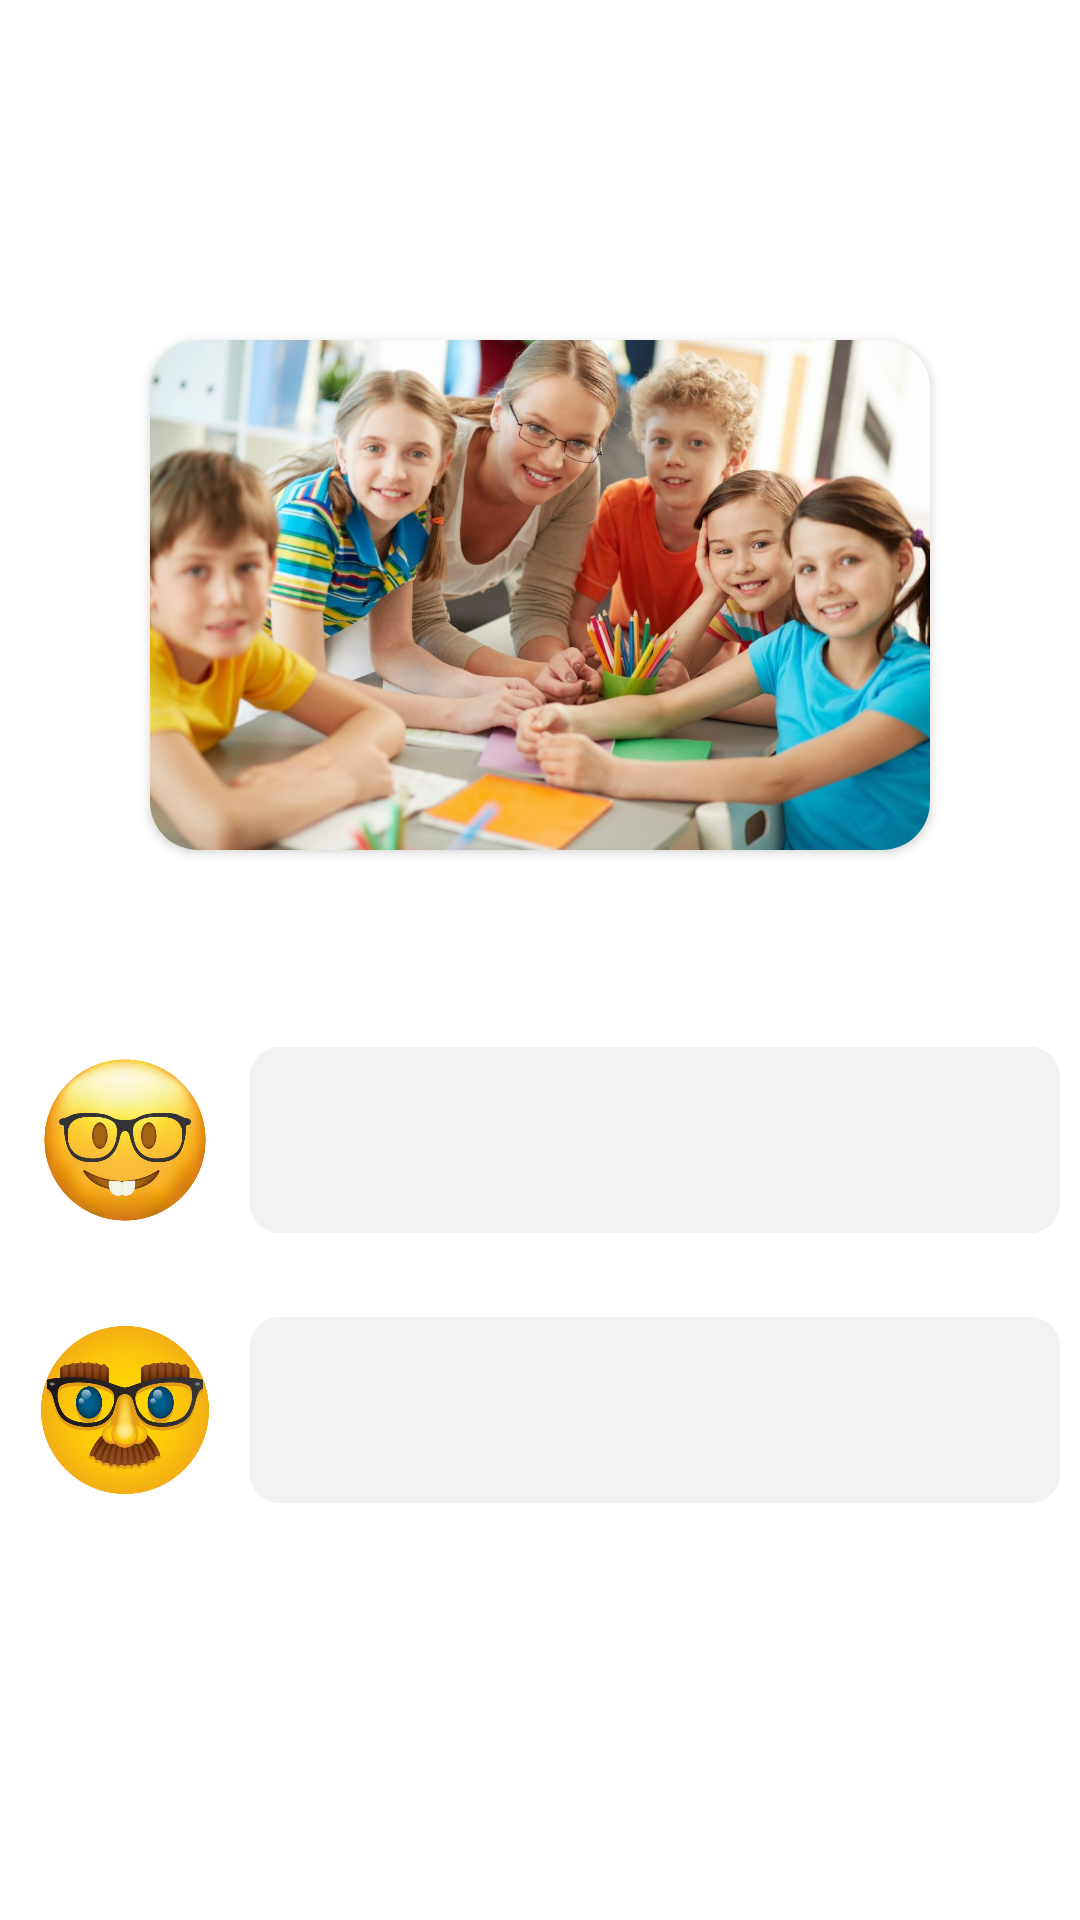

Point at icon controls on the screen. Image size 1080 x 1920, points as (x=x, y=y).
student: (x=125, y=1140)
teacher: (x=125, y=1410)
